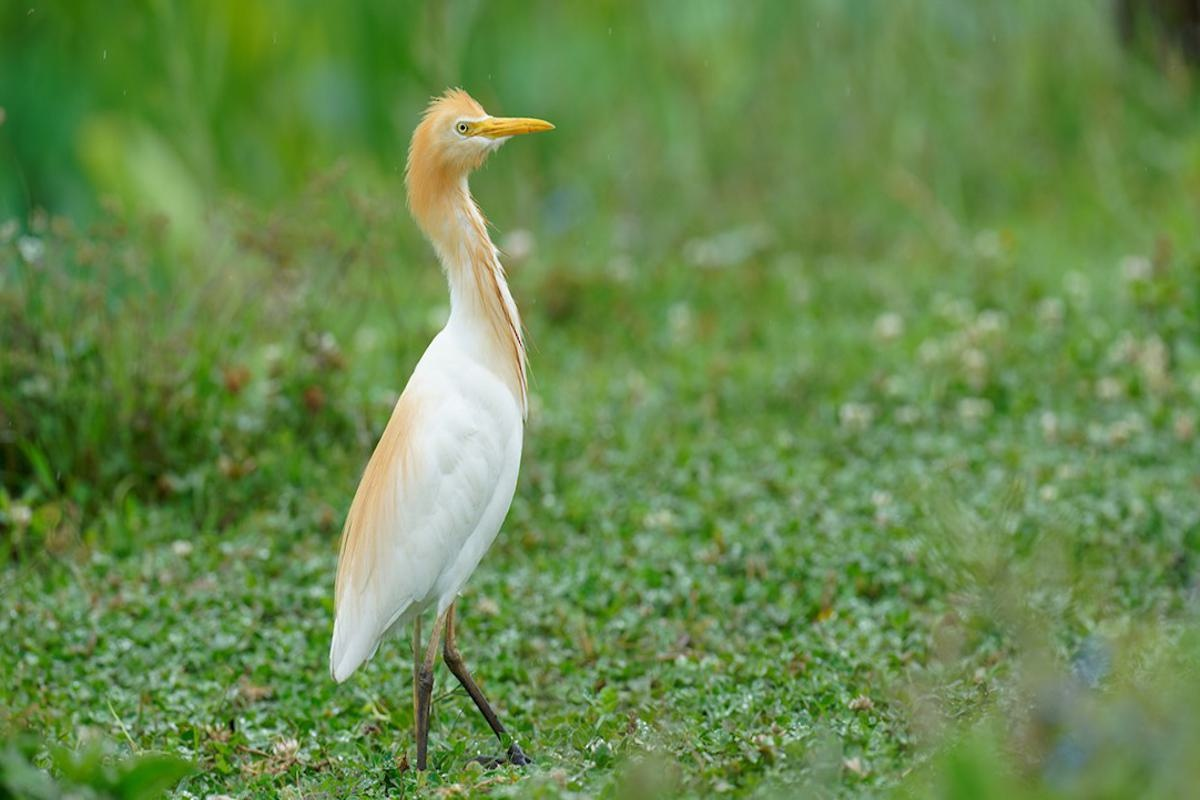egret: (305, 81, 568, 800)
